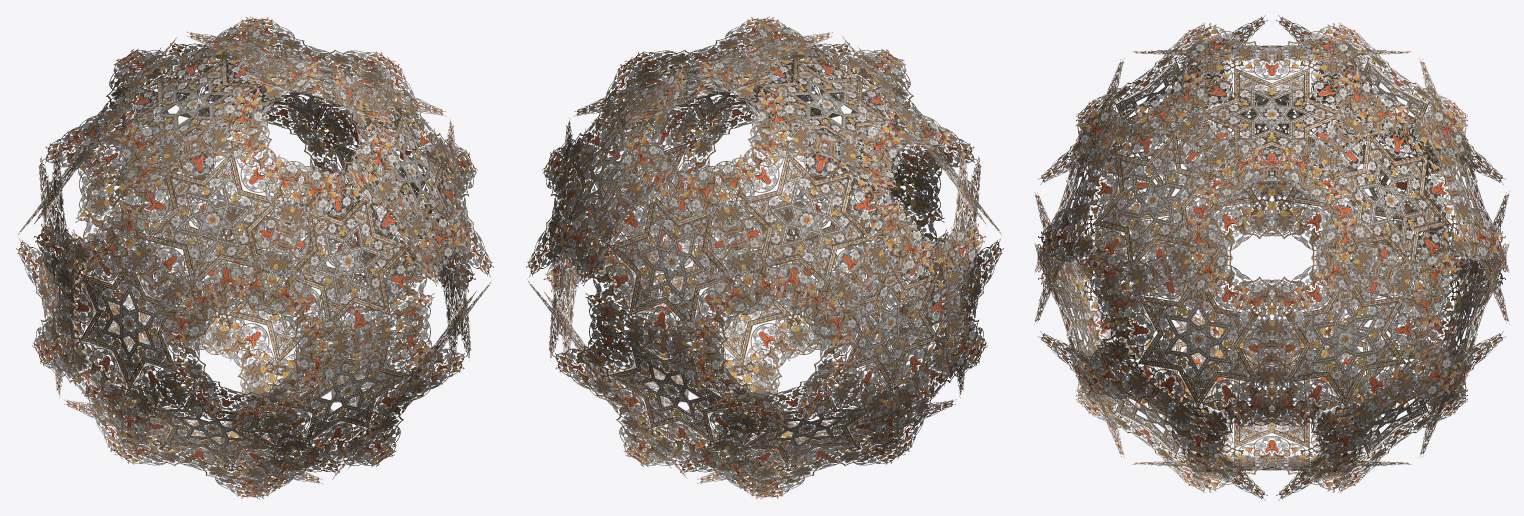
Rendered from SmallIcosicosidodecahedron11.gltf.
3 renders of one model, left to right at view 1: azimuth 30°, elevation 25°; view 2: azimuth 150°, elevation 25°; view 3: azimuth 270°, elevation 25°, orthographic. The views are drawn at different scales.
Visible parts, largest first — view 1: SmallIcosicosidodecahedron; view 2: SmallIcosicosidodecahedron; view 3: SmallIcosicosidodecahedron.
Boxes of the visible parts, x1,y1,x2,y2 form: SmallIcosicosidodecahedron: (16,16,493,499); SmallIcosicosidodecahedron: (526,16,1003,499); SmallIcosicosidodecahedron: (1034,15,1509,500).
Bounding box in the file's own units: 3.24 × 3.24 × 3.24.
Materials: 1 (1 with a texture image).
